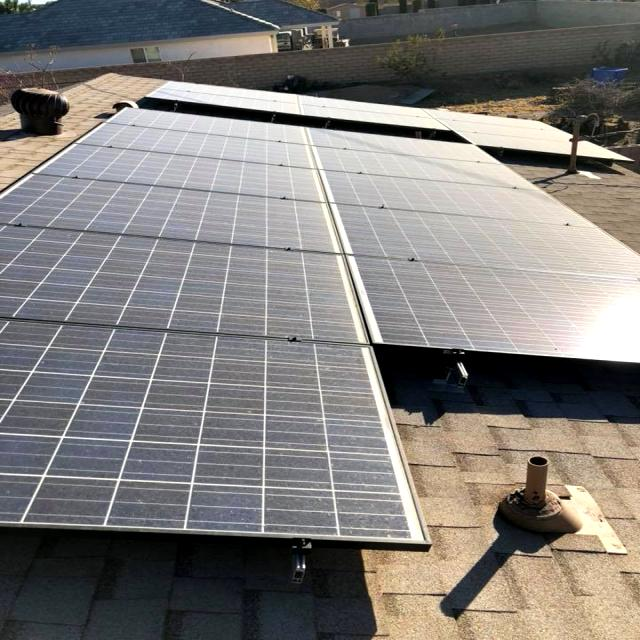dust: (96, 432, 392, 530), (80, 347, 364, 410), (150, 253, 324, 332), (0, 238, 98, 314), (0, 425, 54, 523)
